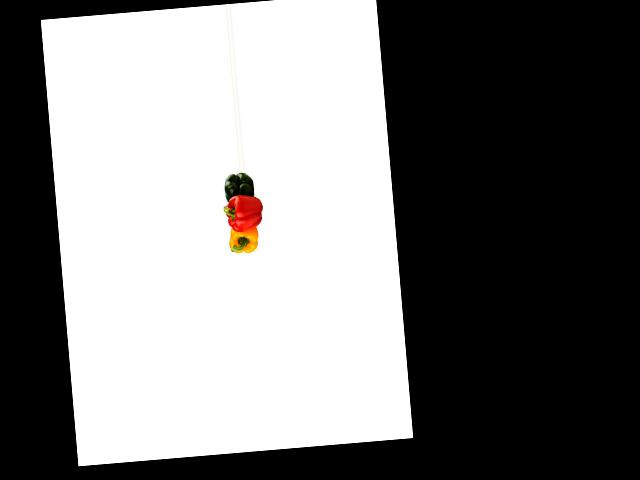bell_pepper: (224, 223, 265, 256)
